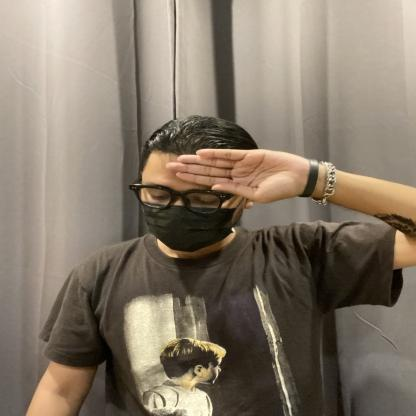Sick: (75, 128, 337, 253)
